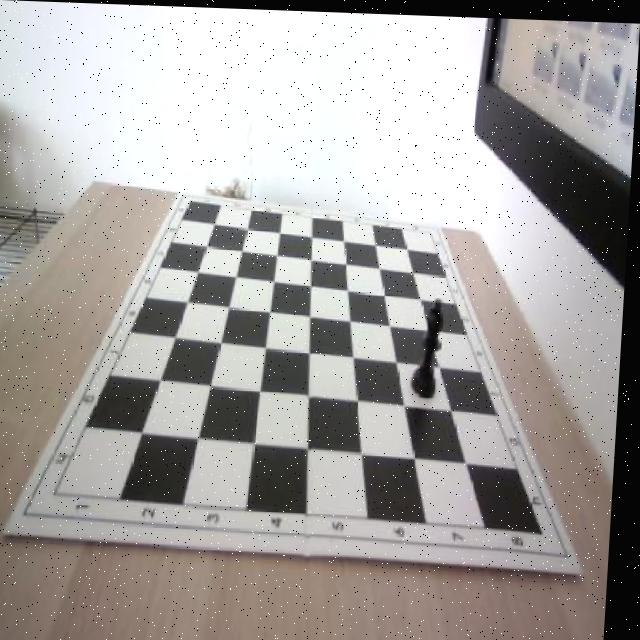bishop: (414, 293, 450, 392)
